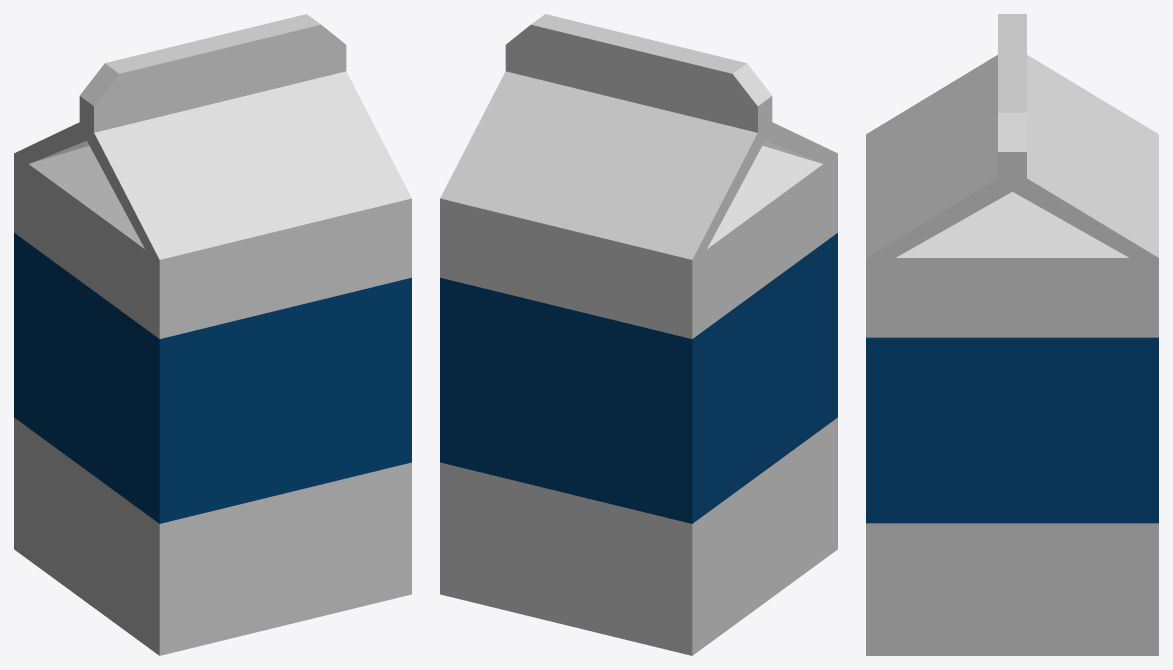
Rendered from Milk_Quart.fbx.
3 views of the same model, side by side, from view 1: azimuth 30°, elevation 25°; view 2: azimuth 150°, elevation 25°; view 3: azimuth 270°, elevation 25° (orthographic).
Parts seen in each view (by area): view 1: Milk_Pint_4.001; view 2: Milk_Pint_4.001; view 3: Milk_Pint_4.001.
Boxes of the visible parts, bbox=[...] form: Milk_Pint_4.001: bbox=[14, 14, 411, 655]; Milk_Pint_4.001: bbox=[440, 14, 837, 655]; Milk_Pint_4.001: bbox=[866, 14, 1158, 655].
Bounding box in the file's own units: 100 × 200 × 100.
